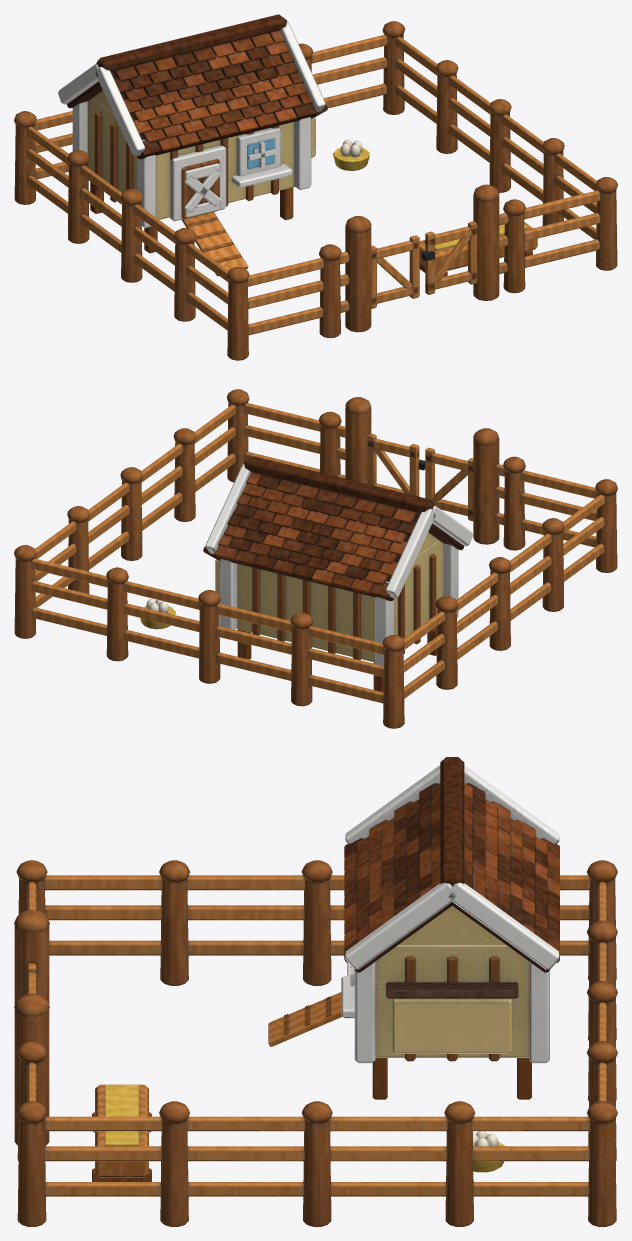
The model's file is marans_coop.glb.
3 views of the same model, one above another, from view 1: azimuth 30°, elevation 25°; view 2: azimuth 150°, elevation 25°; view 3: azimuth 270°, elevation 25° (orthographic). The views are drawn at different scales.
Parts seen in each view (by area): view 1: marans_coop, gate1, gate0; view 2: marans_coop, gate1, gate0; view 3: marans_coop.
Boxes of the visible parts, x1,y1,x2,y2 form: marans_coop: (14,14,617,360); gate1: (421,221,477,294); gate0: (371,235,419,308); marans_coop: (14,389,617,728); gate1: (367,433,425,496); gate0: (425,447,473,521); marans_coop: (14,757,617,1226).
Bounding box in the file's own units: 2 × 0.8813 × 2.01.
Materials: 1 (1 with a texture image).
